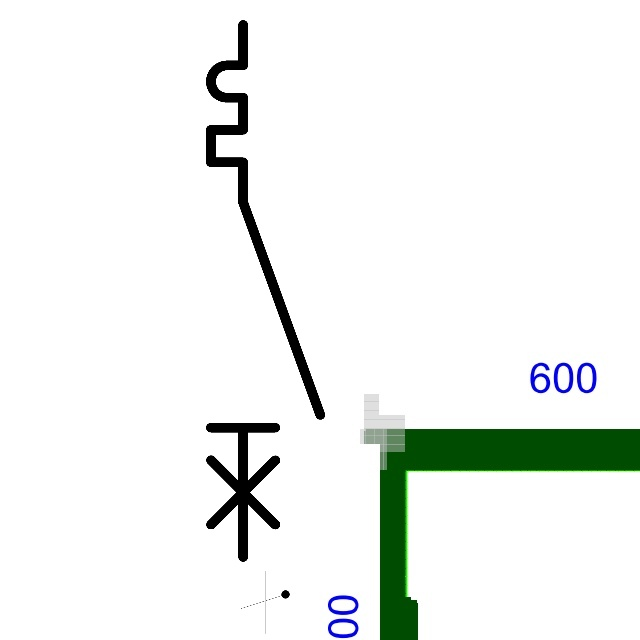interruptor_termomagnetico: (197, 11, 334, 571)
